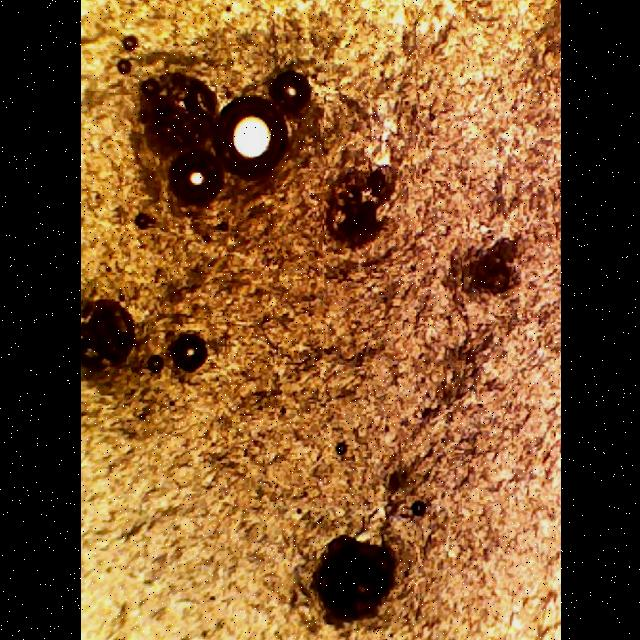microbeads: (311, 534, 393, 622), (138, 73, 216, 159), (216, 97, 282, 175), (166, 150, 222, 207), (271, 68, 315, 118), (168, 333, 206, 372)
